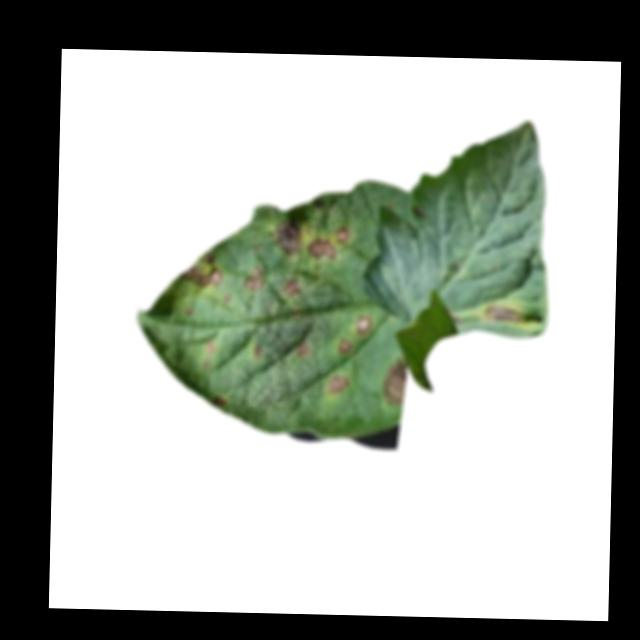Early_blight: (178, 249, 225, 290), (483, 296, 528, 331), (270, 218, 304, 259), (381, 357, 408, 407), (307, 234, 337, 259), (326, 374, 353, 396), (245, 264, 265, 292), (353, 310, 374, 335), (281, 274, 301, 297), (210, 391, 230, 409), (336, 225, 353, 244), (295, 341, 310, 358), (336, 338, 352, 352), (203, 339, 216, 356), (252, 342, 264, 360)
